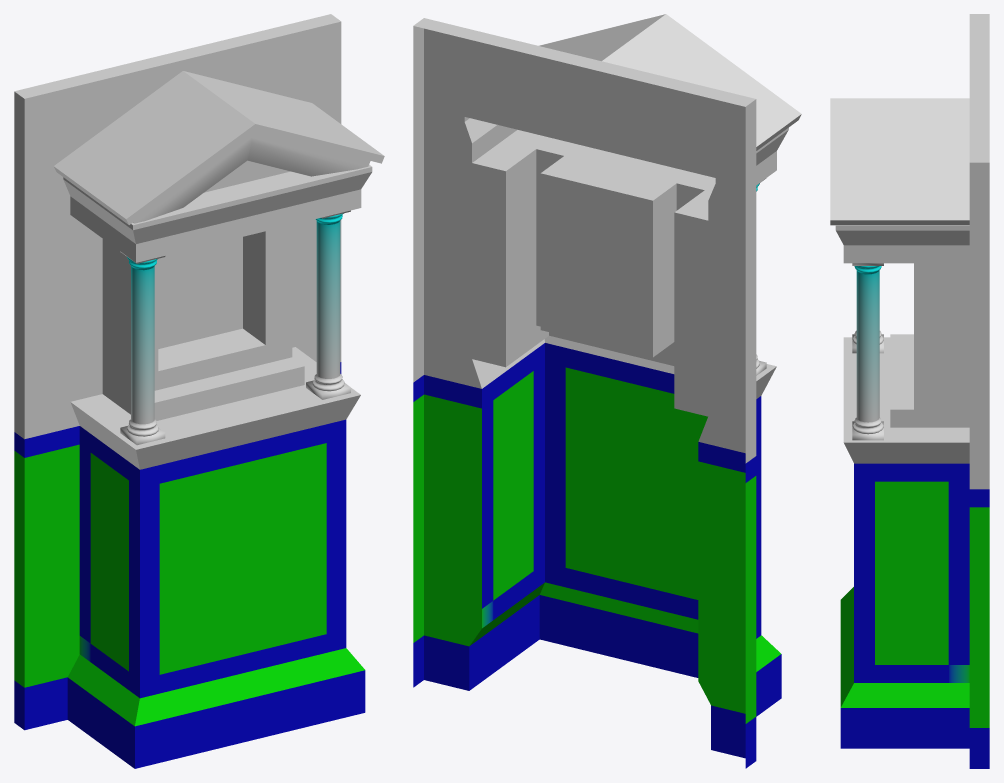
File: SM_ShrineB.fbx
3 views of the same model, side by side, from view 1: azimuth 30°, elevation 25°; view 2: azimuth 150°, elevation 25°; view 3: azimuth 270°, elevation 25° (orthographic). The views are drawn at different scales.
Visible parts, largest first — view 1: SM_ShrineB; view 2: SM_ShrineB; view 3: SM_ShrineB.
Part boxes in pixels (x1,y1,x2,y2): SM_ShrineB: [14, 14, 384, 768]; SM_ShrineB: [413, 14, 801, 768]; SM_ShrineB: [830, 14, 989, 768].
Bounding box in the file's own units: 88.69 × 169 × 40.15.
